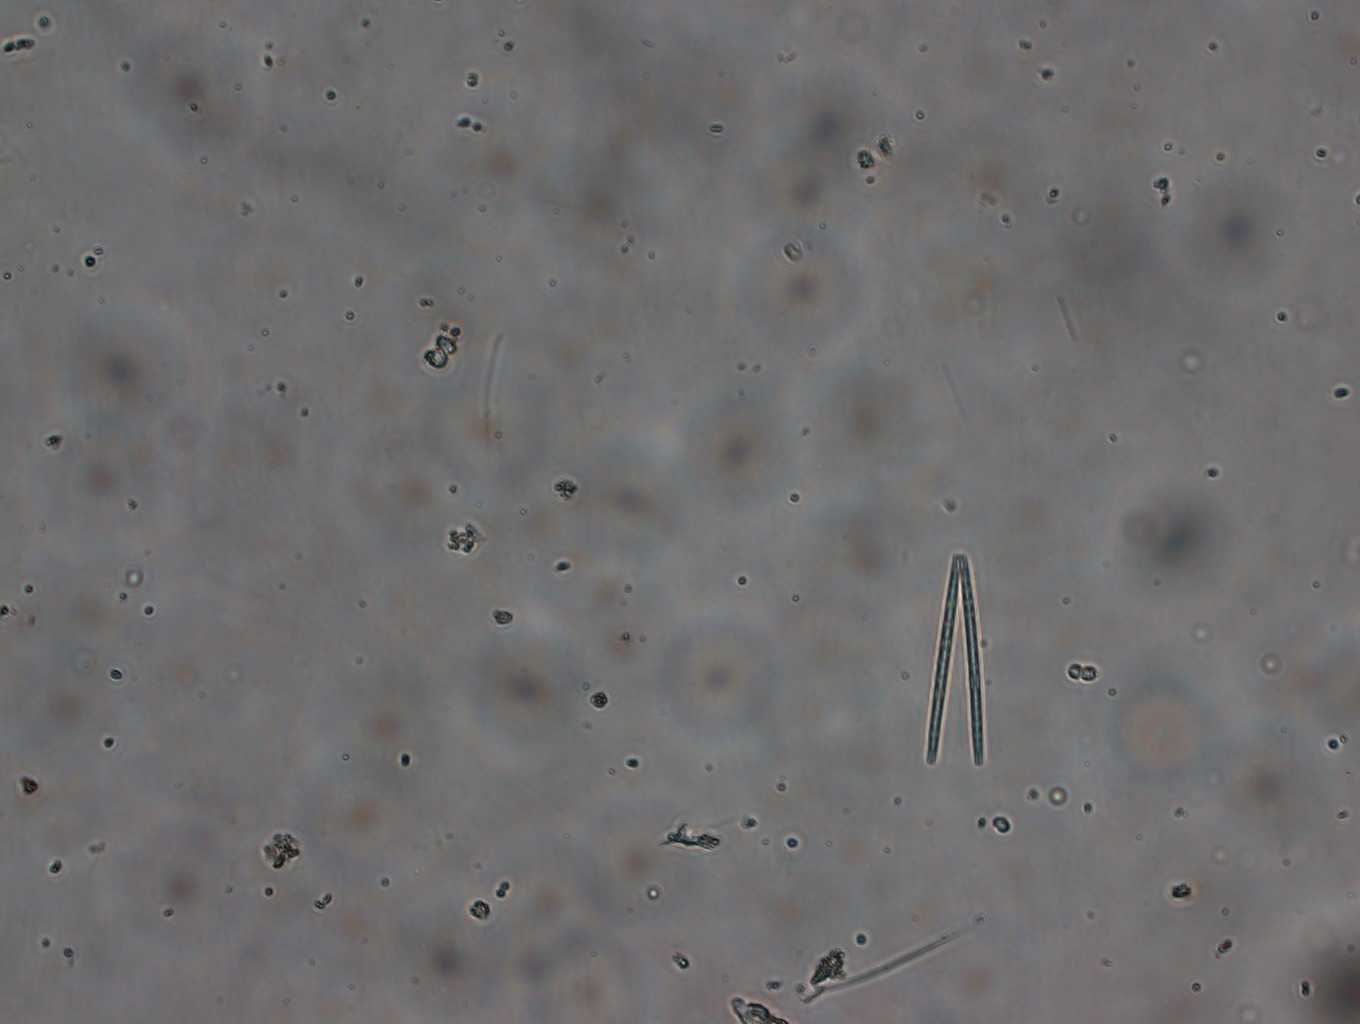thalassionema frauenfeldii: (912, 551, 1008, 779)
